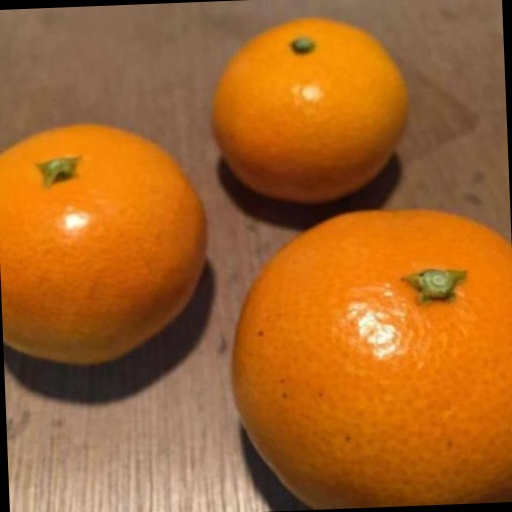fruit: (42, 114, 369, 408), (399, 245, 512, 506), (349, 39, 467, 197)
